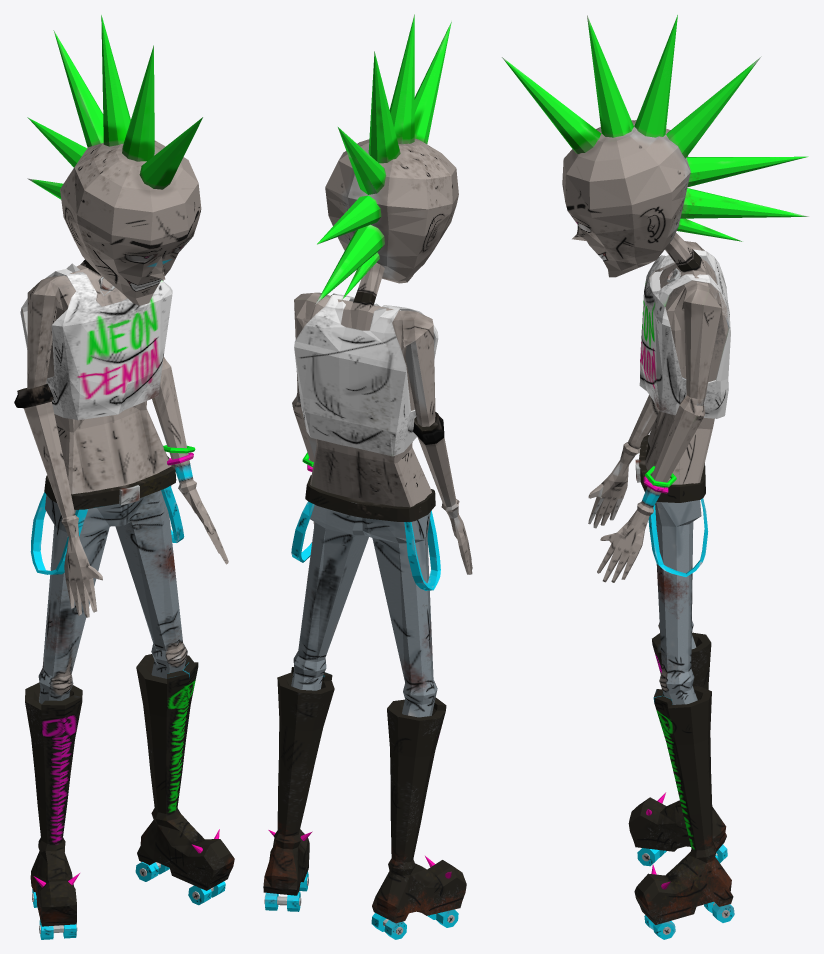
The model's file is punkAnimation_000034.obj.
3 views of the same model, side by side, from view 1: azimuth 30°, elevation 25°; view 2: azimuth 150°, elevation 25°; view 3: azimuth 270°, elevation 25° (orthographic). The views are drawn at different scales.
Parts seen in each view (by area): view 1: Cube.004_Cube.003; view 2: Cube.004_Cube.003; view 3: Cube.004_Cube.003.
Boxes of the visible parts, x1,y1,x2,y2 form: Cube.004_Cube.003: [14, 15, 234, 939]; Cube.004_Cube.003: [263, 14, 472, 939]; Cube.004_Cube.003: [502, 15, 809, 939].
Bounding box in the file's own units: 1.72 × 7.53 × 2.41.
